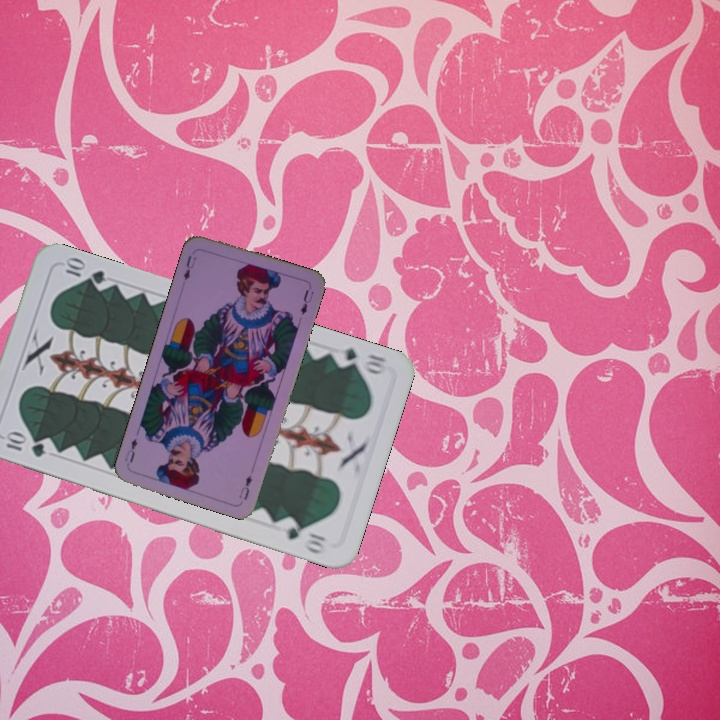EU: (235, 471, 255, 503), (179, 251, 196, 283)
G10: (330, 343, 390, 378), (2, 429, 48, 460)
